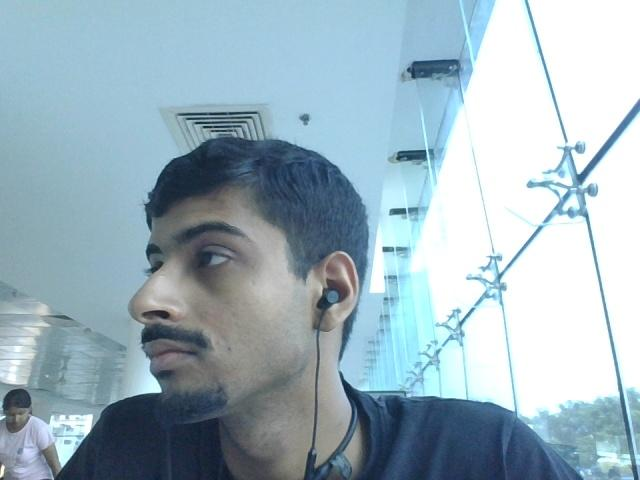average: (125, 138, 384, 420)
